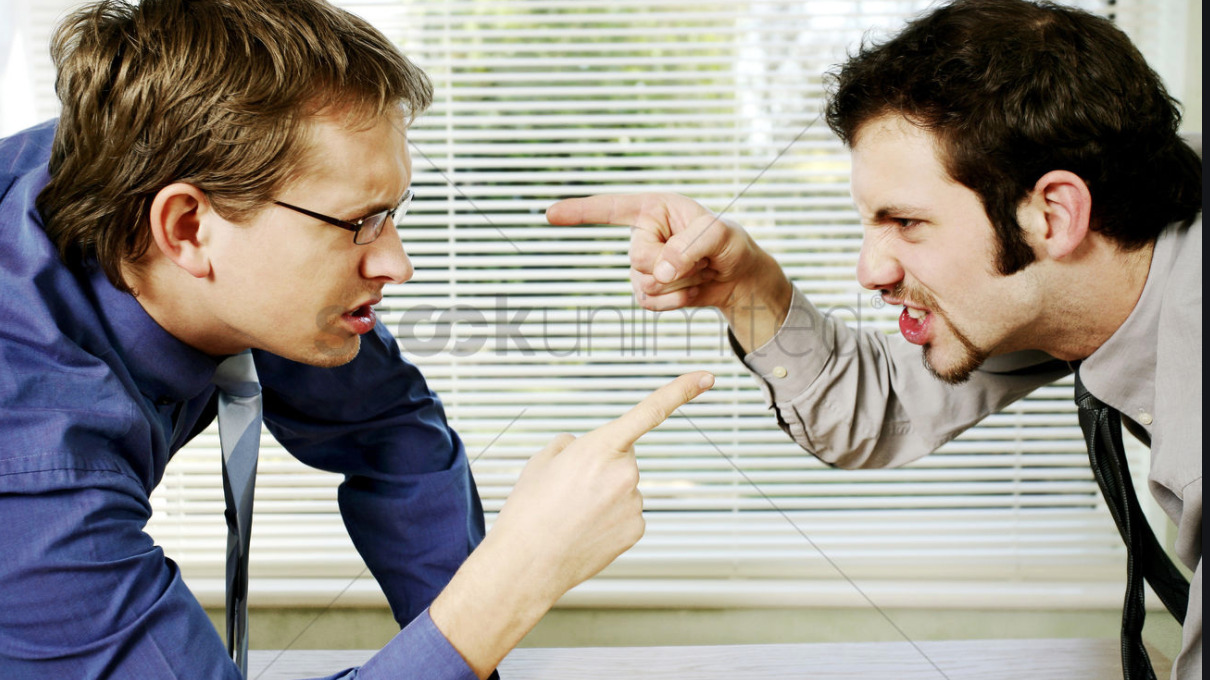Bad: (1, 2, 1203, 680)
